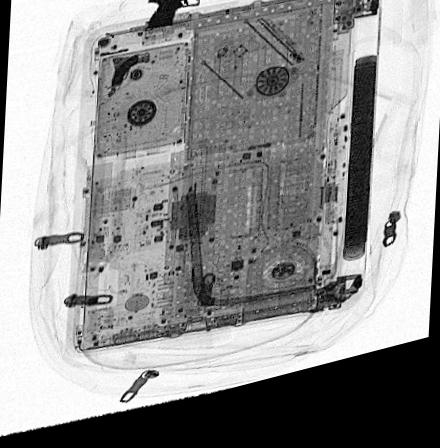Gun: (147, 0, 254, 34)
